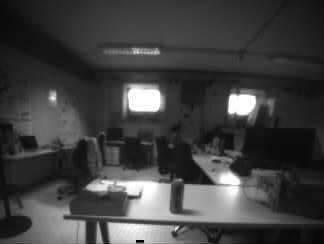Tin can: (171, 179, 184, 213)
